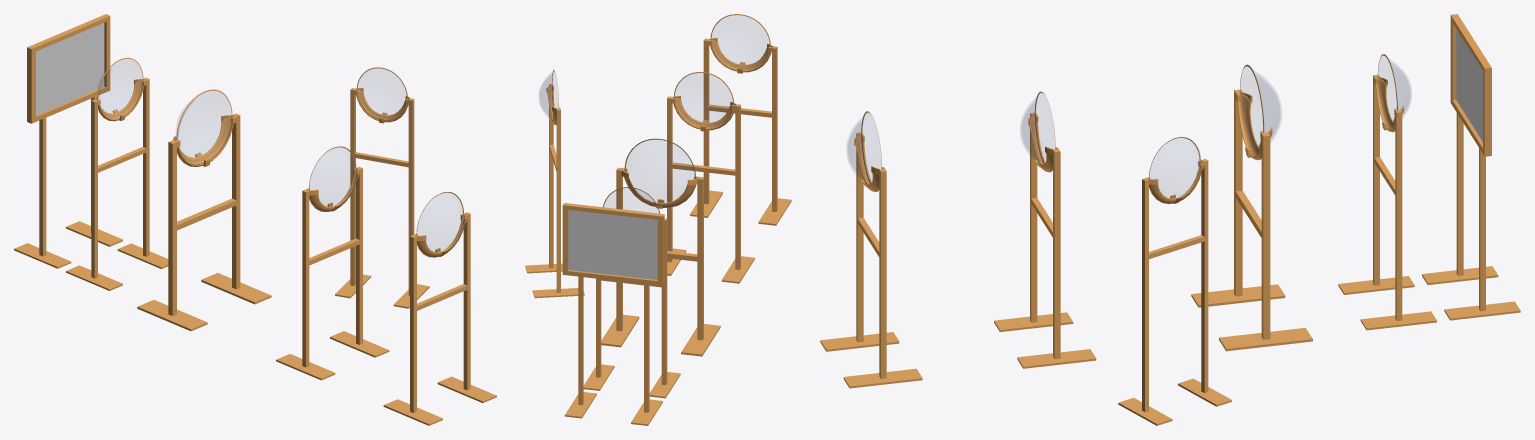
Rendered from pp_lens_centered.glb.
3 views of the same model, side by side, from view 1: azimuth 30°, elevation 25°; view 2: azimuth 150°, elevation 25°; view 3: azimuth 270°, elevation 25° (orthographic). The views are drawn at different scales.
Parts seen in each view (by area): view 1: lens_03, metal_01, metal_01.001, metal, lens_04, mirror, lens_01; view 2: mirror, metal, lens_03, metal_01, metal_01.001, lens_01, lens_04, glass_lens.001; view 3: lens_03, metal, metal_01, metal_01.001, lens_01, lens_04, mirror, glass_lens.002, glass_lens, glass_lens.004.
Part boxes in pixels (x1=…): lens_03: x1=137, y1=113, x2=271, y2=331; metal_01: x1=383, y1=212, x2=496, y2=425; metal_01.001: x1=276, y1=166, x2=389, y2=380; metal: x1=14, y1=14, x2=122, y2=268; lens_04: x1=66, y1=77, x2=168, y2=290; mirror: x1=36, y1=23, x2=104, y2=114; lens_01: x1=335, y1=88, x2=429, y2=308; mirror: x1=568, y1=210, x2=657, y2=279; metal: x1=562, y1=203, x2=664, y2=425; lens_03: x1=601, y1=167, x2=720, y2=356; metal_01: x1=690, y1=38, x2=791, y2=225; metal_01.001: x1=667, y1=96, x2=754, y2=283; lens_01: x1=525, y1=84, x2=584, y2=298; lens_04: x1=583, y1=218, x2=680, y2=398; glass_lens.001: x1=539, y1=72, x2=553, y2=118; lens_03: x1=1191, y1=89, x2=1312, y2=351; metal: x1=1422, y1=14, x2=1520, y2=320; metal_01: x1=820, y1=132, x2=922, y2=388; metal_01.001: x1=994, y1=112, x2=1096, y2=368; lens_01: x1=1118, y1=159, x2=1231, y2=425; lens_04: x1=1338, y1=74, x2=1436, y2=330; mirror: x1=1456, y1=29, x2=1482, y2=141; glass_lens.002: x1=1250, y1=70, x2=1280, y2=139; glass_lens: x1=847, y1=116, x2=870, y2=183; glass_lens.004: x1=1021, y1=96, x2=1044, y2=163.
Size of the model in its own units: 14.29 by 11.14 by 26.66.
